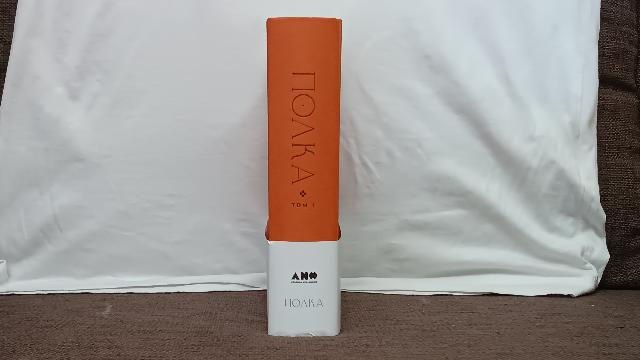book-s-spine: (266, 18, 342, 337)
